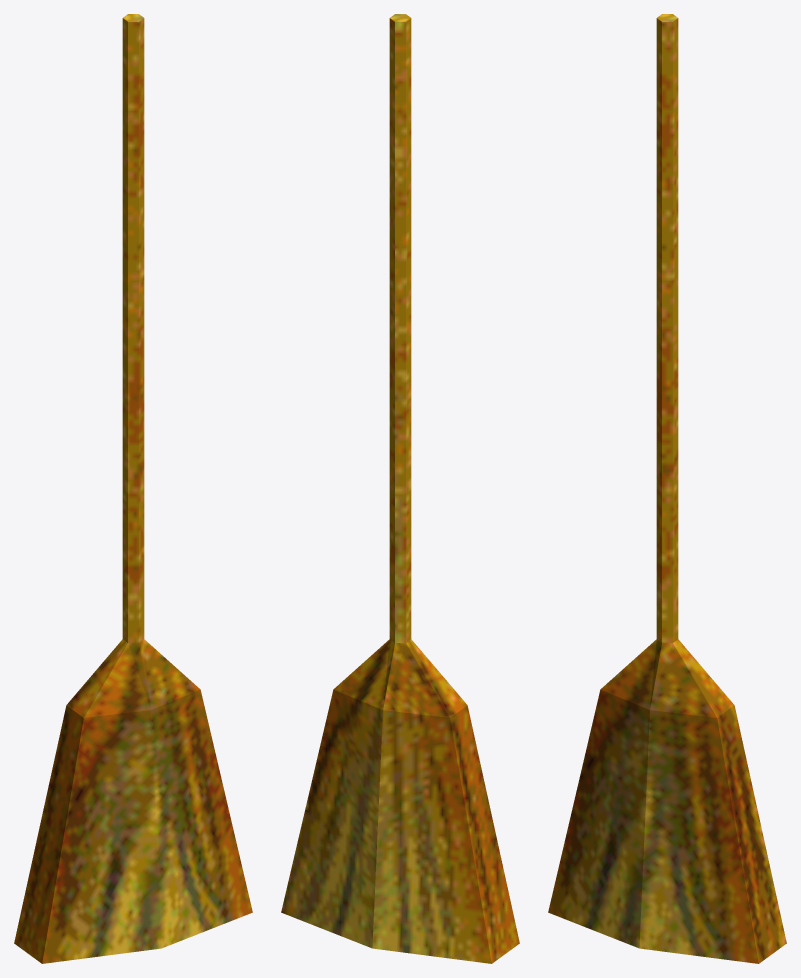
The model's file is Broom01.obj.
3 renders of one model, left to right at view 1: azimuth 30°, elevation 25°; view 2: azimuth 150°, elevation 25°; view 3: azimuth 330°, elevation 25°, orthographic.
Parts seen in each view (by area): view 1: Broom01_Cylinder; view 2: Broom01_Cylinder; view 3: Broom01_Cylinder.
Part boxes in pixels (box(x1,y1,x2,y2)): Broom01_Cylinder: box(14, 14, 252, 963); Broom01_Cylinder: box(281, 14, 519, 963); Broom01_Cylinder: box(548, 14, 786, 963).
Bounding box in the file's own units: 0.7854 × 3.24 × 0.3624.
